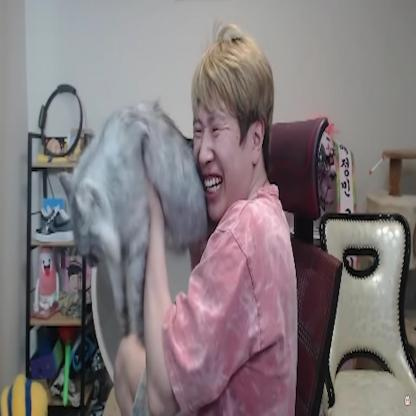streamer: (113, 27, 298, 416)
